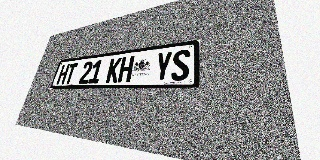1: (88, 60, 103, 83)
2: (78, 61, 94, 84)
H: (117, 56, 135, 83), (56, 64, 70, 84)
K: (105, 57, 122, 83)
S: (170, 49, 190, 81)
T: (64, 63, 78, 84)
Y: (153, 51, 173, 81)
